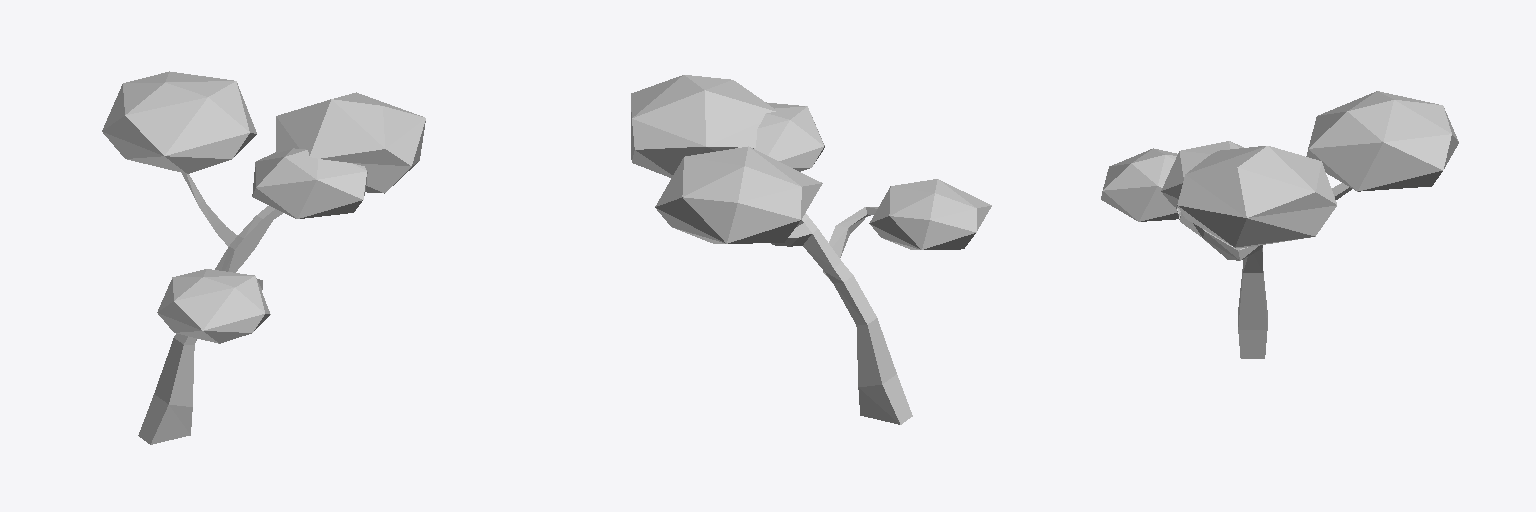
File: testTree2.obj
3 views of the same model, side by side, from view 1: azimuth 30°, elevation 25°; view 2: azimuth 150°, elevation 25°; view 3: azimuth 270°, elevation 25° (orthographic).
Parts seen in each view (by area): view 1: Sphere.002, Icosphere, Cube.001, Sphere, Sphere.001; view 2: Sphere.002, Icosphere, Cube.001, Sphere, Sphere.001; view 3: Icosphere, Sphere.002, Sphere, Cube.001, Sphere.001.
Boxes of the visible parts, box(x1,y1,x2,y2) form: Sphere.002: box(102, 71, 256, 173); Icosphere: box(276, 92, 425, 193); Cube.001: box(138, 173, 282, 444); Sphere: box(157, 269, 270, 343); Sphere.001: box(252, 148, 367, 218); Sphere.002: box(655, 146, 822, 243); Icosphere: box(631, 75, 775, 177); Cube.001: box(771, 207, 912, 424); Sphere: box(869, 179, 991, 249); Sphere.001: box(754, 102, 824, 171); Icosphere: box(1177, 146, 1336, 247); Sphere.002: box(1306, 91, 1458, 191); Sphere: box(1101, 148, 1178, 221); Cube.001: box(1176, 183, 1351, 358); Sphere.001: box(1161, 141, 1243, 207).
Bounding box in the file's own units: 14.48 × 12.99 × 14.62.